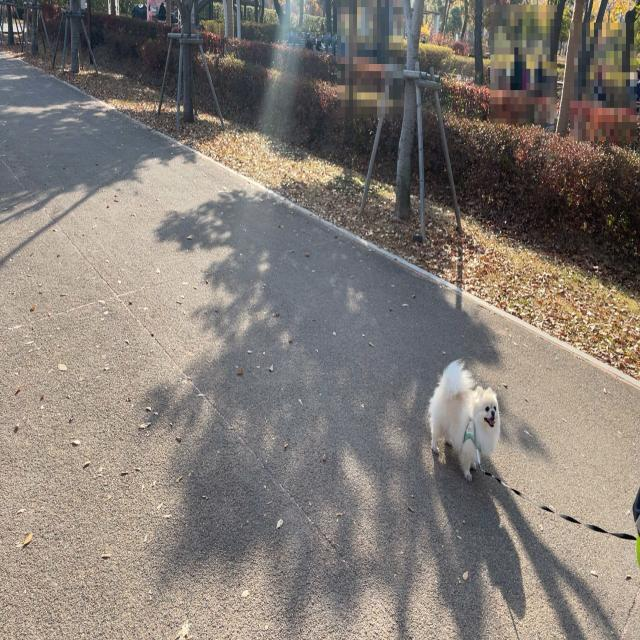Dog: (428, 356, 501, 483)
